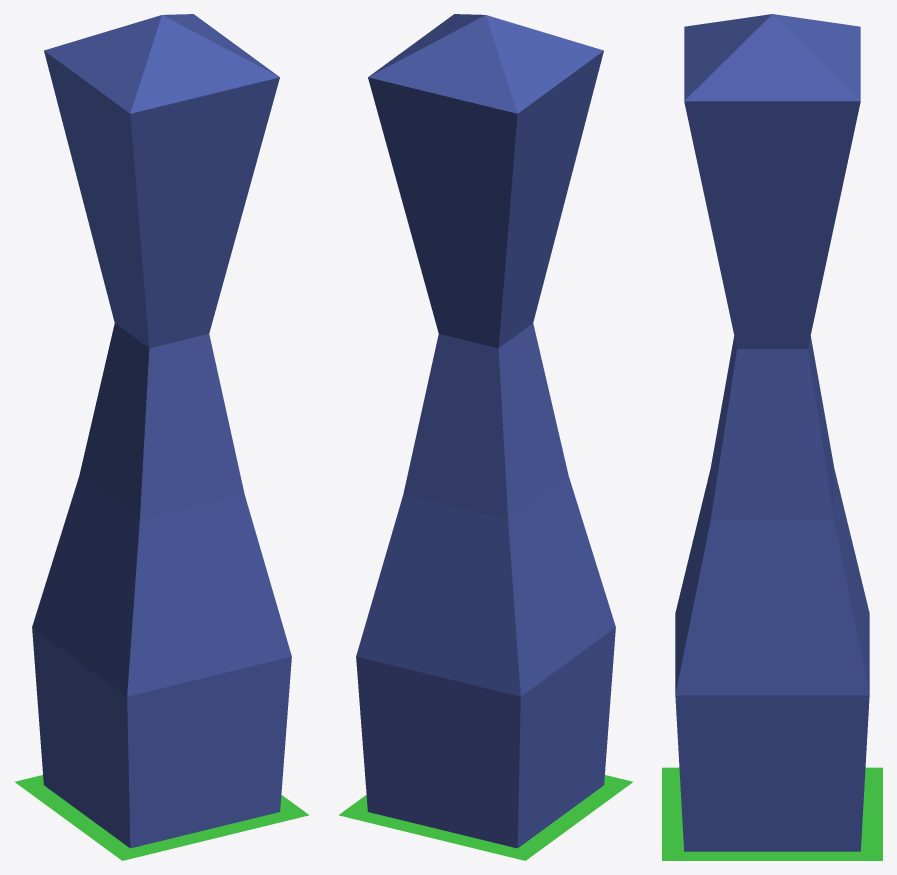
Rendered from Tower1.fbx.
3 views of the same model, side by side, from view 1: azimuth 30°, elevation 25°; view 2: azimuth 150°, elevation 25°; view 3: azimuth 270°, elevation 25° (orthographic). The views are drawn at different scales.
Visible parts, largest first — view 1: Cube.001, Plane; view 2: Cube.001, Plane; view 3: Cube.001, Plane.
Part boxes in pixels (x1=…): Cube.001: x1=32, y1=14, x2=291, y2=848; Plane: x1=15, y1=775, x2=308, y2=860; Cube.001: x1=356, y1=14, x2=615, y2=848; Plane: x1=339, y1=775, x2=632, y2=860; Cube.001: x1=675, y1=14, x2=869, y2=851; Plane: x1=662, y1=767, x2=882, y2=860.
Size of the model in its own units: 200 by 800 by 200.
